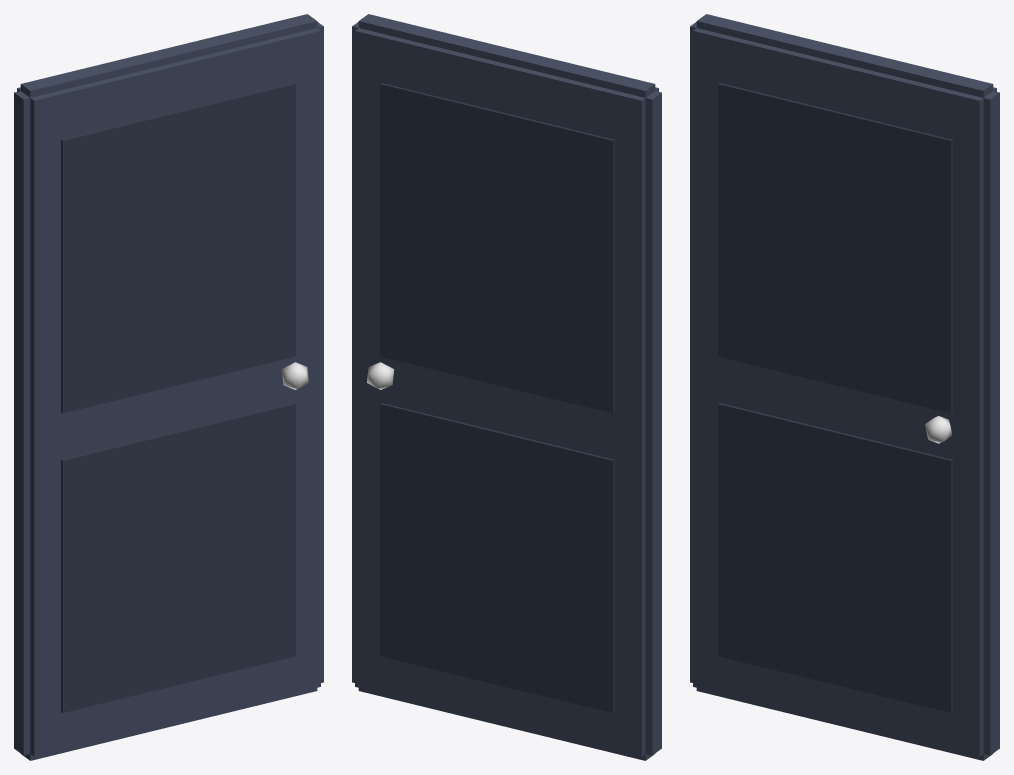
The model's file is granite_door_v0.glb.
3 renders of one model, left to right at view 1: azimuth 30°, elevation 25°; view 2: azimuth 150°, elevation 25°; view 3: azimuth 330°, elevation 25°, orthographic.
Visible parts, largest first — view 1: granite_door_v0; view 2: granite_door_v0; view 3: granite_door_v0.
Boxes of the visible parts, box(x1,y1,x2,y2) form: granite_door_v0: box(14, 14, 323, 760); granite_door_v0: box(352, 14, 661, 760); granite_door_v0: box(690, 14, 999, 760).
Bounding box in the file's own units: 0.9 × 1.92 × 0.2381.
